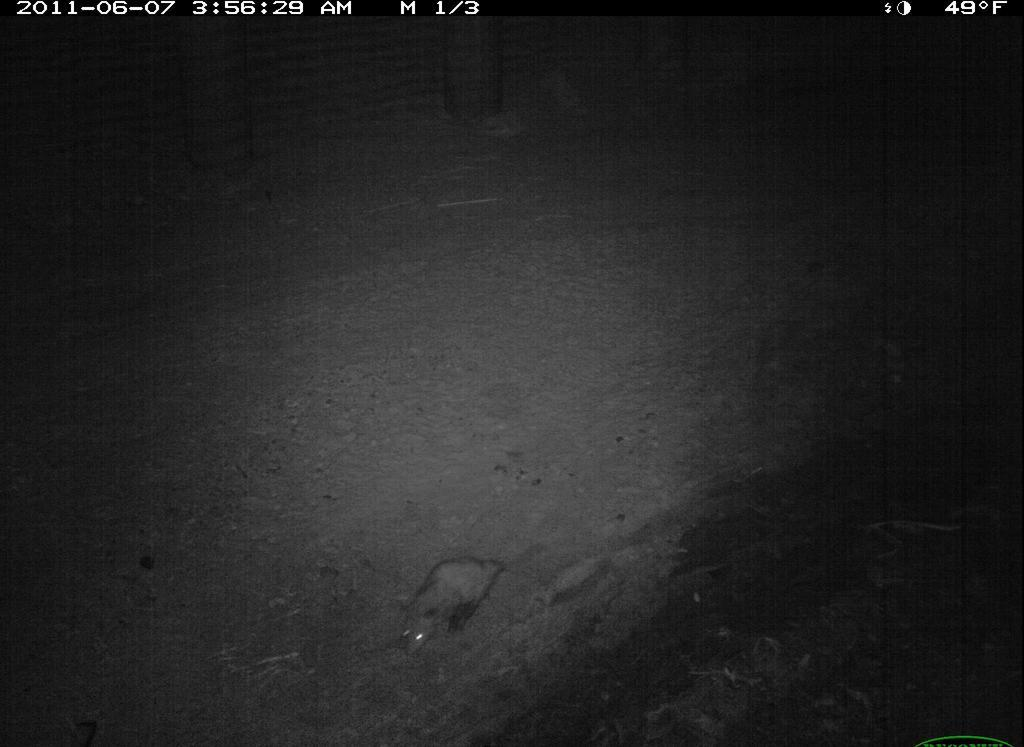opossum: (393, 553, 510, 660)
